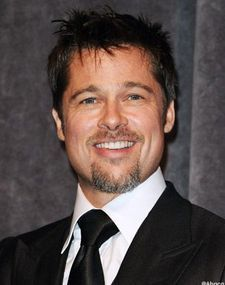without_mask: (58, 43, 162, 178)
